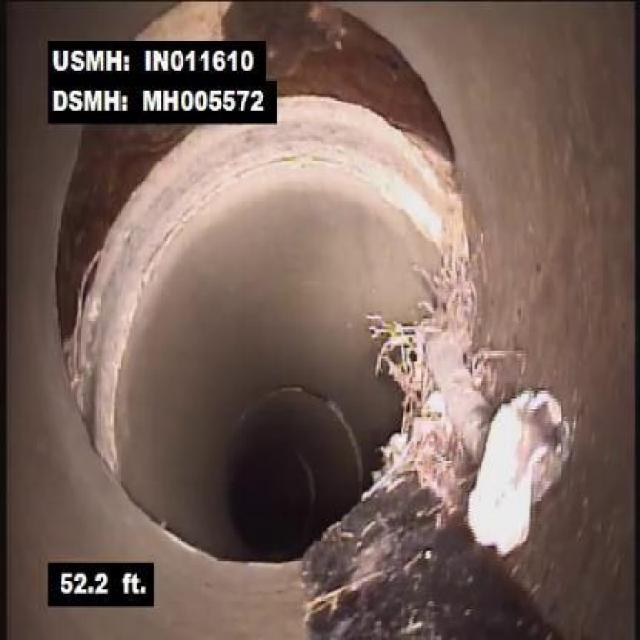Joint offset: (280, 8, 469, 234), (44, 131, 176, 386)
